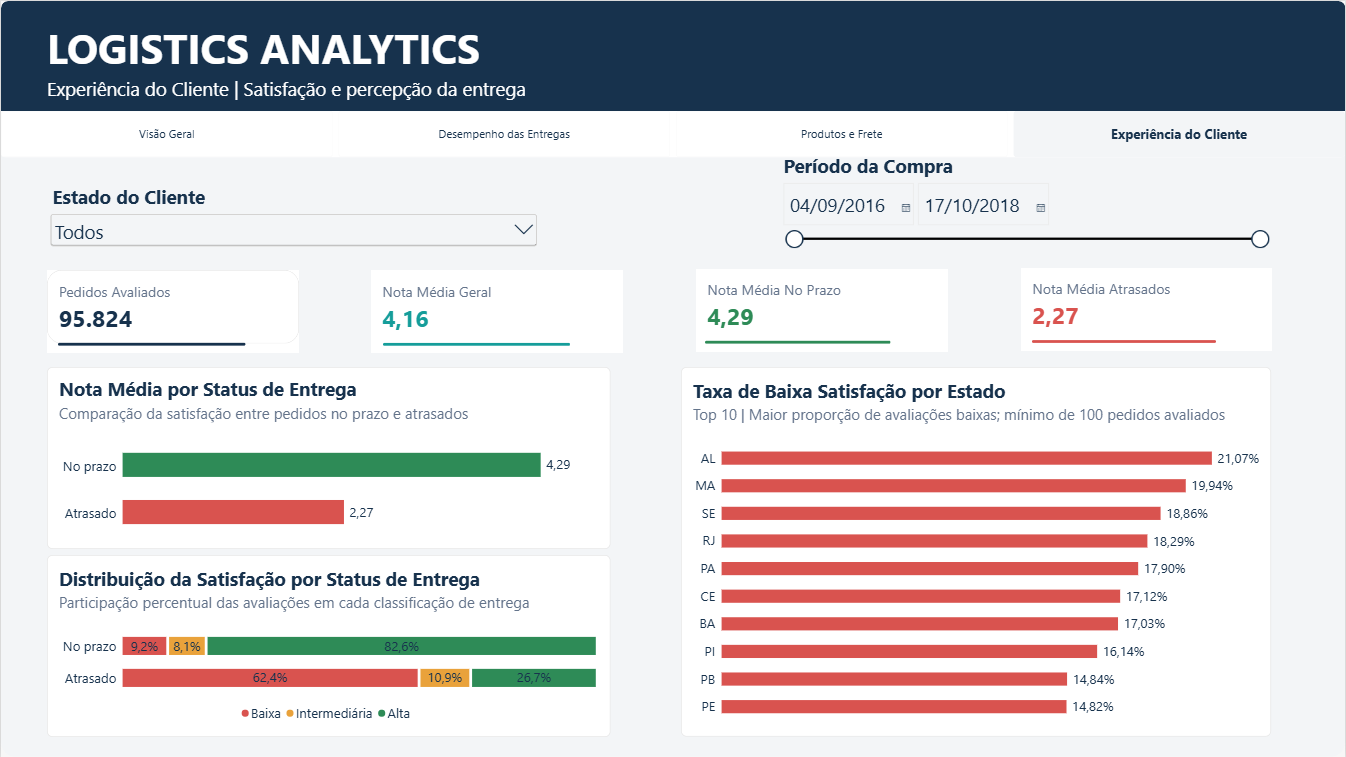

Layout of this report page (visuals, bound fields, positions):
{"tool":"powerbi","page":{"name":"Experiência do Cliente","canvas":[1920,1080],"ordinal":3},"visuals":[{"type":"shape","box":[0,0,1920,1079.6],"z":0},{"type":"cardVisual","title":"sadada","fields":{"Data":["fact_order_delivery.Nota Média Atrasados"]},"box":[1456.7,381.7,358.5,105.3],"z":0,"group":"g3"},{"type":"cardVisual","title":"sadada","fields":{"Data":["fact_order_delivery.Nota Média No Prazo"]},"box":[992.9,383.3,360.2,105.2],"z":0,"group":"g2"},{"type":"cardVisual","title":"sadada","fields":{"Data":["fact_order_delivery.Pedidos Avaliados"]},"box":[65.4,384,360.5,105.7],"z":0,"group":"g4"},{"type":"cardVisual","title":"sadada","fields":{"Data":["fact_order_delivery.Nota Média Geral"]},"box":[529.1,384.1,360.2,106.6],"z":0,"group":"g1"},{"type":"shape","box":[0,0,1920.6,191.5],"z":1000},{"type":"shape","box":[1472.4,473.1,262.9,27.1],"z":1000,"group":"g3"},{"type":"shape","box":[1006.5,475.4,265.2,26.3],"z":1000,"group":"g2"},{"type":"shape","box":[546.4,476.4,267.5,26.6],"z":1000,"group":"g1"},{"type":"shape","box":[80.7,476.9,267.7,26.4],"z":1000,"group":"g4"},{"type":"shape","box":[0,156.9,1920.6,66.5],"z":2000},{"type":"textbox","box":[66,27.1,631,81.2],"z":3000},{"type":"textbox","box":[66.3,107.6,775.1,39.8],"z":4000},{"type":"slicer","fields":{"Values":["dim_customer.customer_state"]},"box":[65.7,261.9,705,120],"z":6000},{"type":"slicer","fields":{"Values":["fact_order_delivery.order_purchase_timestamp"]},"box":[1110,217.7,705,230],"z":7000},{"type":"group","id":"g1","title":"Grupo 2","box":[529.1,384.1,360,118.4],"z":8000},{"type":"group","id":"g2","title":"Grupo 3","box":[992.9,383.3,360,118.3],"z":9000},{"type":"group","id":"g3","title":"Grupo 4","box":[1456.7,381.7,358.5,118.6],"z":10000},{"type":"group","id":"g4","title":"Grupo 1","box":[65.4,384,360,118.6],"z":11000},{"type":"barChart","title":"Nota Média por Status de Entrega","fields":{"Category":["fact_order_delivery.status_entrega"],"Y":["fact_order_delivery.Nota Média por Status de Entrega"]},"box":[65,523.3,805,260],"z":12000},{"type":"hundredPercentStackedBarChart","title":"Distribuição da Satisfação por Status de Entrega","fields":{"Category":["fact_order_delivery.status_entrega"],"Series":["fact_order_delivery.Faixa de Satisfação"],"Y":["Count(fact_order_delivery.order_id)"]},"box":[65,791.7,805,260],"z":12001},{"type":"barChart","title":"Taxa de Baixa Satisfação por Estado","fields":{"Category":["dim_customer.customer_state"],"Y":["fact_order_delivery.Taxa Baixa Satisfação (Min 100 Avaliados)"]},"box":[971.7,523.3,843.3,528.3],"z":12002},{"type":"pageNavigator","box":[0,156.9,1920.6,66.5],"z":12003}]}

Visuals, with their boxes in screenshot pixels (x1, y1, x2, y2), scaled from the page's 1920x1080 canvas onto the 1346x757 screenshot:
shape: 0:0:1345:756
"sadada" cardVisual: 1021:268:1273:341
"sadada" cardVisual: 696:269:949:342
"sadada" cardVisual: 46:269:299:343
"sadada" cardVisual: 371:269:623:344
shape: 0:0:1345:134
shape: 1032:332:1217:351
shape: 706:333:892:352
shape: 383:334:571:353
shape: 57:334:244:353
shape: 0:110:1345:157
textbox: 46:19:489:76
textbox: 46:75:590:103
slicer - dim_customer.customer_state: 46:184:540:268
slicer - fact_order_delivery.order_purchase_timestamp: 778:153:1272:314
"Grupo 2" group: 371:269:623:352
"Grupo 3" group: 696:269:948:352
"Grupo 4" group: 1021:268:1273:351
"Grupo 1" group: 46:269:298:352
"Nota Média por Status de Entrega" barChart: 46:367:610:549
"Distribuição da Satisfação por Status de Entrega" hundredPercentStackedBarChart: 46:555:610:737
"Taxa de Baixa Satisfação por Estado" barChart: 681:367:1272:737
pageNavigator: 0:110:1345:157
